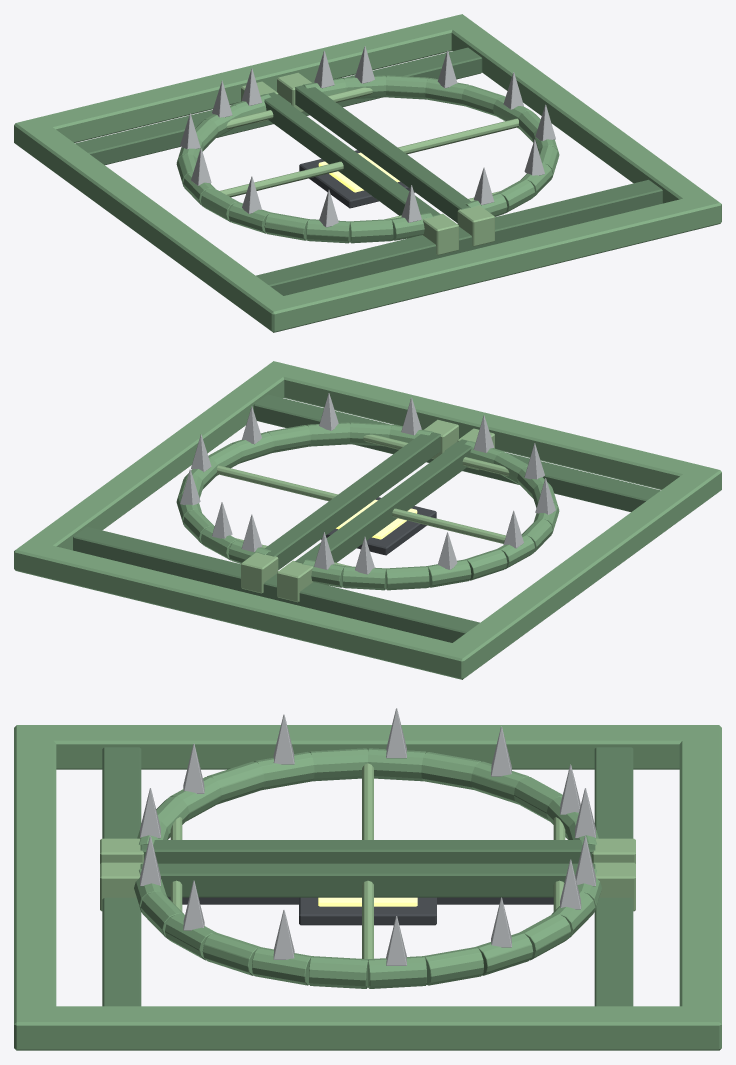
File: FTF_Trap_LegClamp_Green_v5.glb
3 renders of one model, top to bottom at view 1: azimuth 30°, elevation 25°; view 2: azimuth 150°, elevation 25°; view 3: azimuth 270°, elevation 25°, orthographic. The views are drawn at different scales.
Visible parts, largest first — view 1: FTF_Trap_LegClamp_Green_v5_BaseStatic, Jaw_Right_Mesh, Jaw_Left_Mesh; view 2: FTF_Trap_LegClamp_Green_v5_BaseStatic, Jaw_Right_Mesh, Jaw_Left_Mesh; view 3: FTF_Trap_LegClamp_Green_v5_BaseStatic, Jaw_Right_Mesh, Jaw_Left_Mesh.
Boxes of the visible parts, <box> form: FTF_Trap_LegClamp_Green_v5_BaseStatic: <box>14,14,721,332</box>; Jaw_Right_Mesh: <box>295,46,559,222</box>; Jaw_Left_Mesh: <box>176,68,440,243</box>; FTF_Trap_LegClamp_Green_v5_BaseStatic: <box>14,361,721,679</box>; Jaw_Right_Mesh: <box>176,393,440,569</box>; Jaw_Left_Mesh: <box>295,415,559,590</box>; FTF_Trap_LegClamp_Green_v5_BaseStatic: <box>14,725,721,1050</box>; Jaw_Right_Mesh: <box>134,836,601,988</box>; Jaw_Left_Mesh: <box>137,708,598,863</box>.
Bounding box in the file's own units: 4 × 0.5617 × 4.
